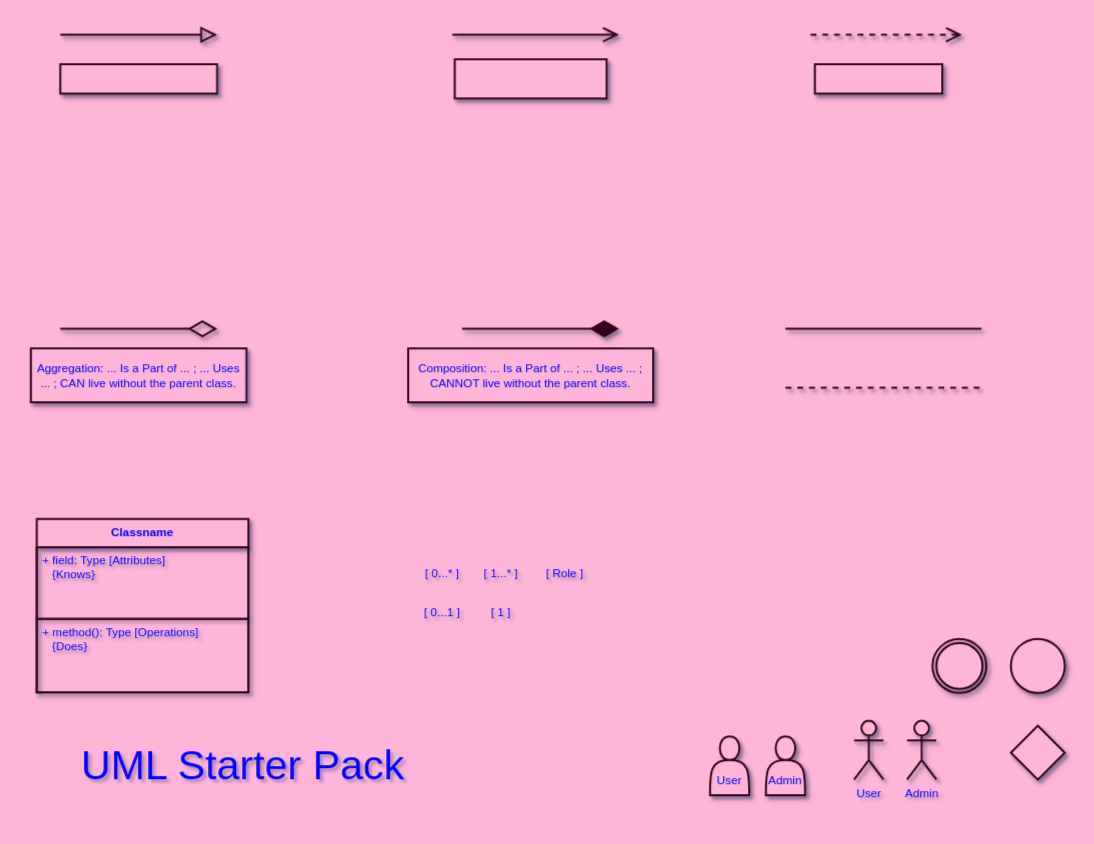
The diagram is 1094 pixels wide and 844 high, and some of its shapes have lost their labels. Each missing label, with the centre of its shape:
"Association: NOT a Kind of; NOT Part of" goes at pixel 531 80.
"Dependency: USES" goes at pixel 879 80.
"Inheritance: Is a Kind of ..." goes at pixel 139 80.
